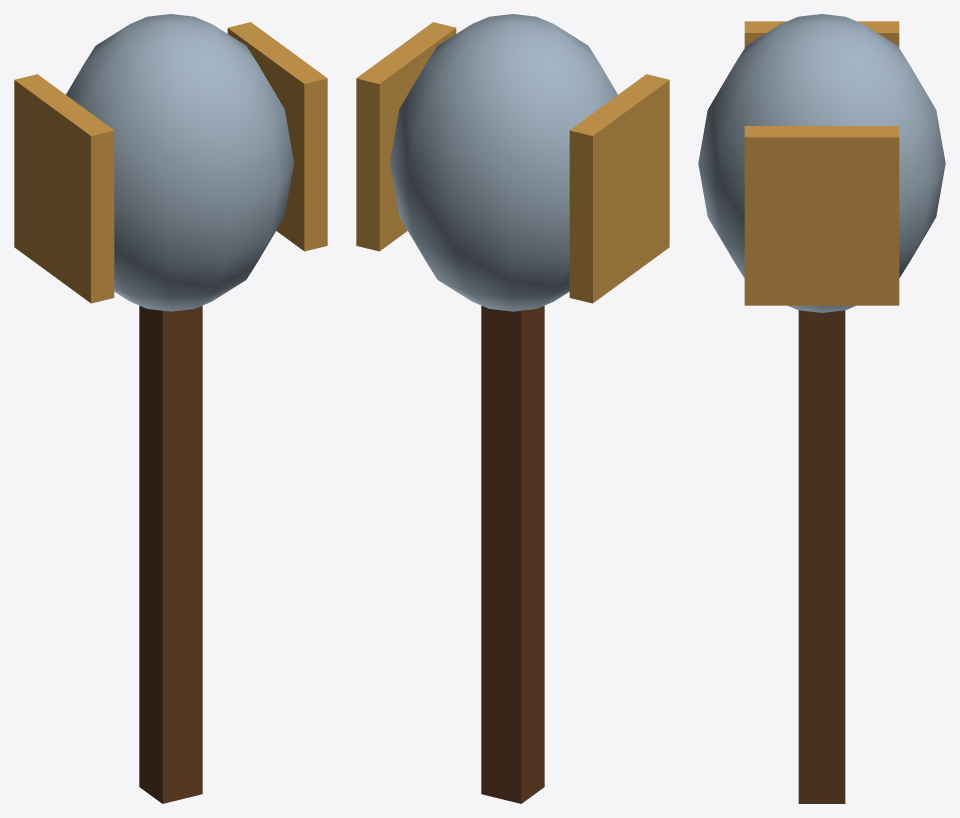
The model's file is twoHandMace.glb.
The picture shows the model from 3 angles, left to right: view 1: azimuth 30°, elevation 25°; view 2: azimuth 150°, elevation 25°; view 3: azimuth 270°, elevation 25°; orthographic projection.
Parts seen in each view (by area): view 1: Head, Shaft, Flange; view 2: Head, Shaft, Flange; view 3: Head, Flange, Shaft.
Boxes of the visible parts, left/top/right/bottom form: Head: left=66, top=14, right=293, bottom=311; Shaft: left=139, top=305, right=202, bottom=803; Flange: left=14, top=22, right=327, bottom=303; Head: left=390, top=14, right=617, bottom=311; Shaft: left=481, top=305, right=544, bottom=803; Flange: left=356, top=22, right=669, bottom=303; Head: left=698, top=14, right=945, bottom=312; Flange: left=744, top=21, right=899, bottom=305; Shaft: left=798, top=310, right=845, bottom=803.
Size of the model in its own units: 0.355 by 1.1 by 0.32.
